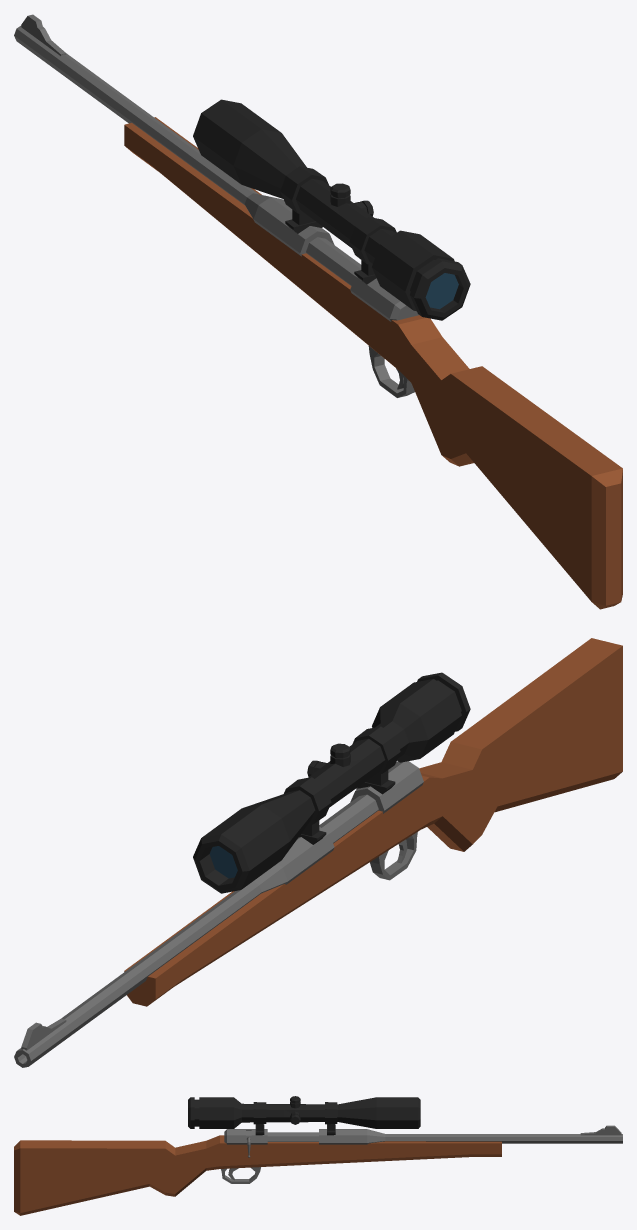
Rendered from Sniper rifle.fbx.
3 renders of one model, top to bottom at view 1: azimuth 30°, elevation 25°; view 2: azimuth 150°, elevation 25°; view 3: azimuth 270°, elevation 25°, orthographic. The views are drawn at different scales.
Parts seen in each view (by area): view 1: Rifle; view 2: Rifle; view 3: Rifle.
Boxes of the visible parts, bbox=[...] form: Rifle: bbox=[14, 14, 622, 609]; Rifle: bbox=[14, 638, 622, 1067]; Rifle: bbox=[14, 1096, 622, 1215].
Size of the model in its own units: 6.73 by 119 by 25.14.
